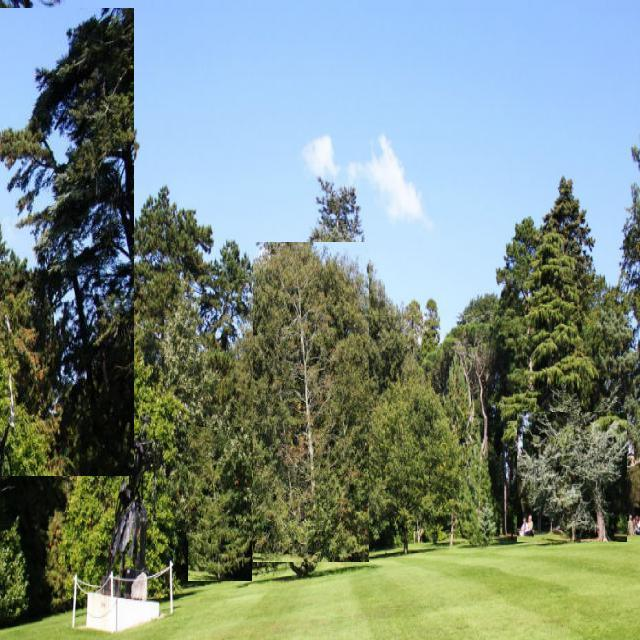tree: (0, 8, 134, 476), (253, 242, 369, 562), (492, 178, 628, 412), (50, 356, 194, 576), (344, 371, 488, 561), (111, 183, 255, 343), (517, 412, 627, 542), (188, 427, 252, 581), (314, 183, 362, 245)
